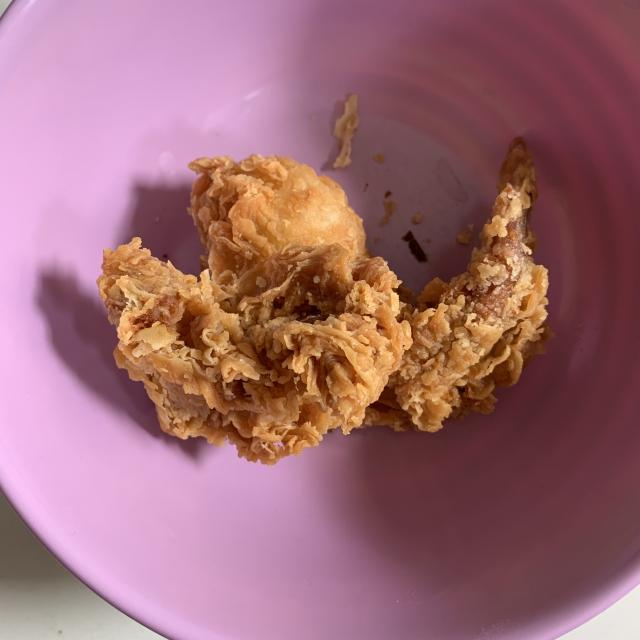Frango: (98, 140, 551, 463)
